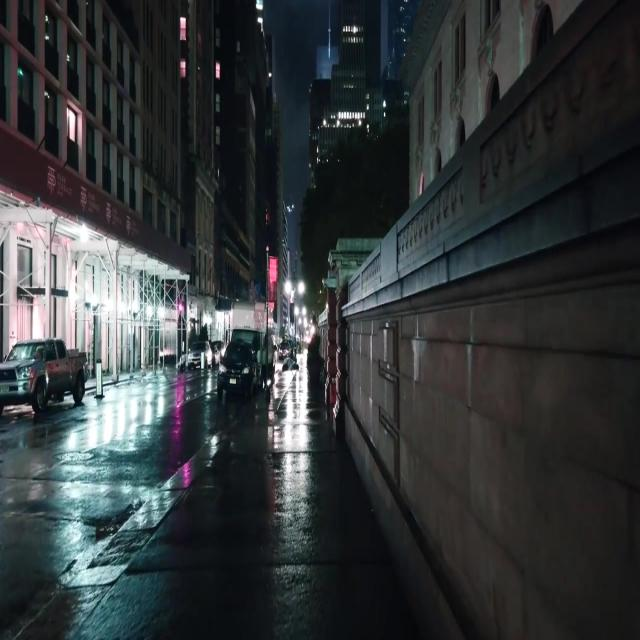Car: (10, 335, 86, 404)
